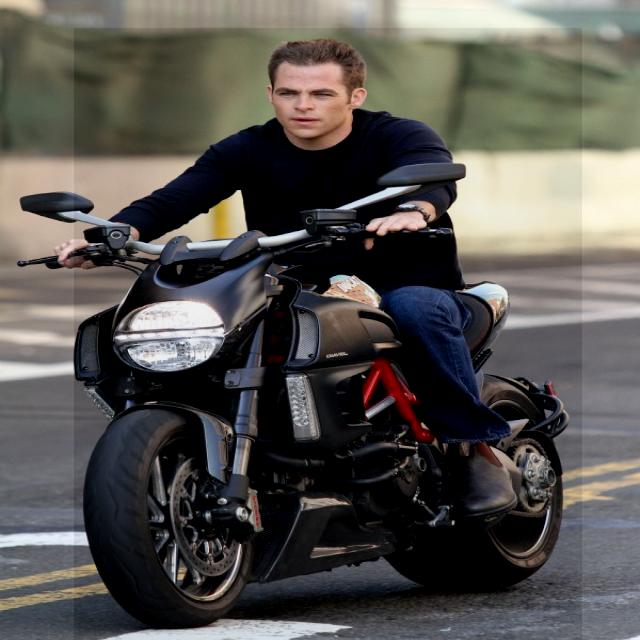No_Helmet: (74, 28, 582, 640)
